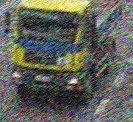truck: (4, 0, 125, 107)
